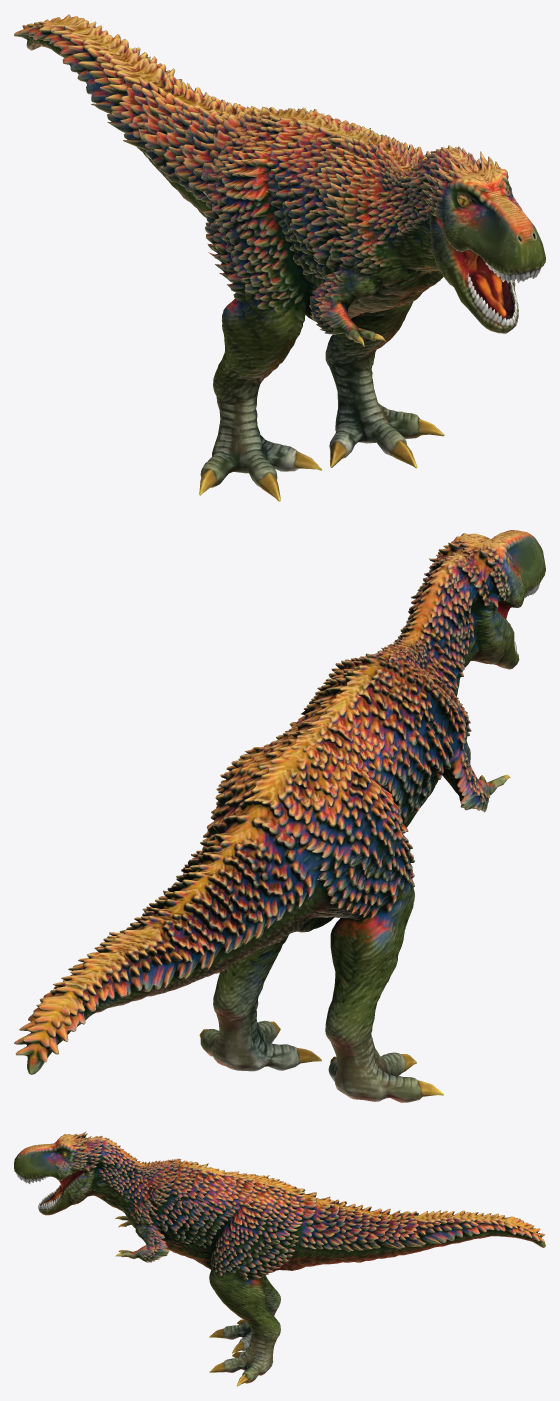
Rendered from King of Feathers.glb.
The picture shows the model from 3 angles, top to bottom: view 1: azimuth 30°, elevation 25°; view 2: azimuth 150°, elevation 25°; view 3: azimuth 270°, elevation 25°; orthographic projection. The views are drawn at different scales.
Parts seen in each view (by area): view 1: rex_low.001; view 2: rex_low.001; view 3: rex_low.001.
Part boxes in pixels (bbox=[...]): rex_low.001: bbox=[14, 14, 545, 501]; rex_low.001: bbox=[14, 530, 545, 1102]; rex_low.001: bbox=[14, 1131, 545, 1386].
Bounding box in the file's own units: 3.85 × 6.32 × 13.72.
1 material, 1 textured.
